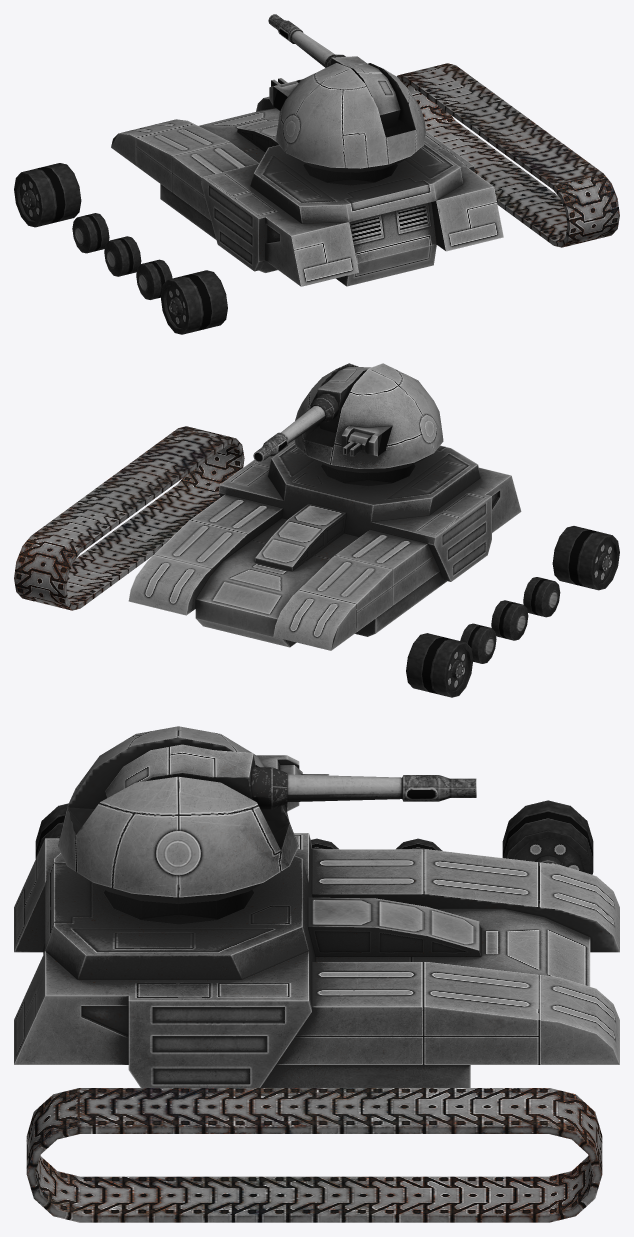
The model's file is Po Explo.FBX.
3 views of the same model, one above another, from view 1: azimuth 30°, elevation 25°; view 2: azimuth 150°, elevation 25°; view 3: azimuth 270°, elevation 25° (orthographic). The views are drawn at different scales.
Visible parts, largest first — view 1: body, trackl, turret, wheel10, wheel6, mantlet_1, wheel8, wheel7, barrel_1, wheel9; view 2: body, trackl, turret, wheel6, wheel10, mantlet_1, barrel_1, wheel8, wheel9, wheel7, mantlet_2; view 3: body, trackl, turret, mantlet_1, wheel6, barrel_1, wheel10.
Part boxes in pixels (x1=…): body: x1=111, y1=96, x2=503, y2=286; trackl: x1=397, y1=63, x2=619, y2=247; turret: x1=269, y1=63, x2=425, y2=172; wheel10: x1=160, y1=270, x2=227, y2=334; wheel6: x1=14, y1=163, x2=81, y2=227; mantlet_1: x1=324, y1=54, x2=400, y2=129; wheel8: x1=104, y1=236, x2=141, y2=276; wheel7: x1=72, y1=213, x2=109, y2=253; barrel_1: x1=268, y1=14, x2=334, y2=67; wheel9: x1=136, y1=259, x2=172, y2=299; body: x1=128, y1=440, x2=521, y2=650; trackl: x1=14, y1=426, x2=244, y2=610; turret: x1=294, y1=363, x2=443, y2=472; wheel6: x1=406, y1=633, x2=473, y2=697; wheel10: x1=552, y1=526, x2=619, y2=590; mantlet_1: x1=310, y1=367, x2=371, y2=433; barrel_1: x1=253, y1=405, x2=326, y2=462; wheel8: x1=491, y1=600, x2=528, y2=640; wheel9: x1=523, y1=577, x2=560, y2=617; wheel7: x1=460, y1=623, x2=496, y2=663; mantlet_2: x1=343, y1=431, x2=371, y2=456; body: x1=14, y1=833, x2=619, y2=1087; trackl: x1=26, y1=1088, x2=602, y2=1222; turret: x1=58, y1=726, x2=299, y2=903; mantlet_1: x1=105, y1=744, x2=287, y2=809; wheel6: x1=502, y1=800, x2=593, y2=874; barrel_1: x1=287, y1=774, x2=476, y2=801; wheel10: x1=35, y1=803, x2=68, y2=858.
Bounding box in the file's own units: 69.58 × 30.49 × 53.47.
Materials: 1 (1 with a texture image).
